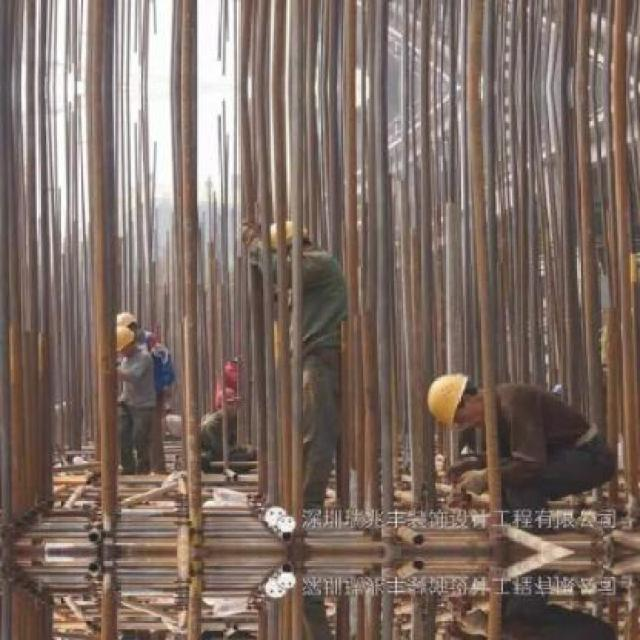helmet: (424, 366, 470, 429), (263, 217, 312, 260), (114, 323, 138, 357), (115, 310, 143, 328)
